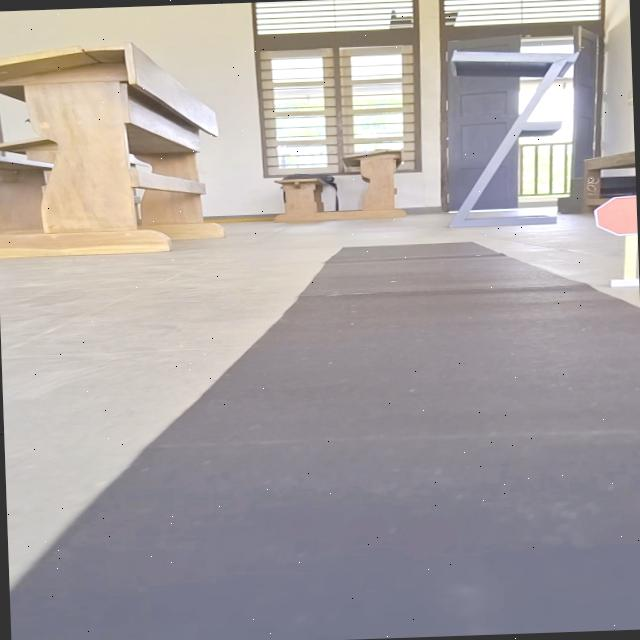Stop: (590, 194, 637, 236)
